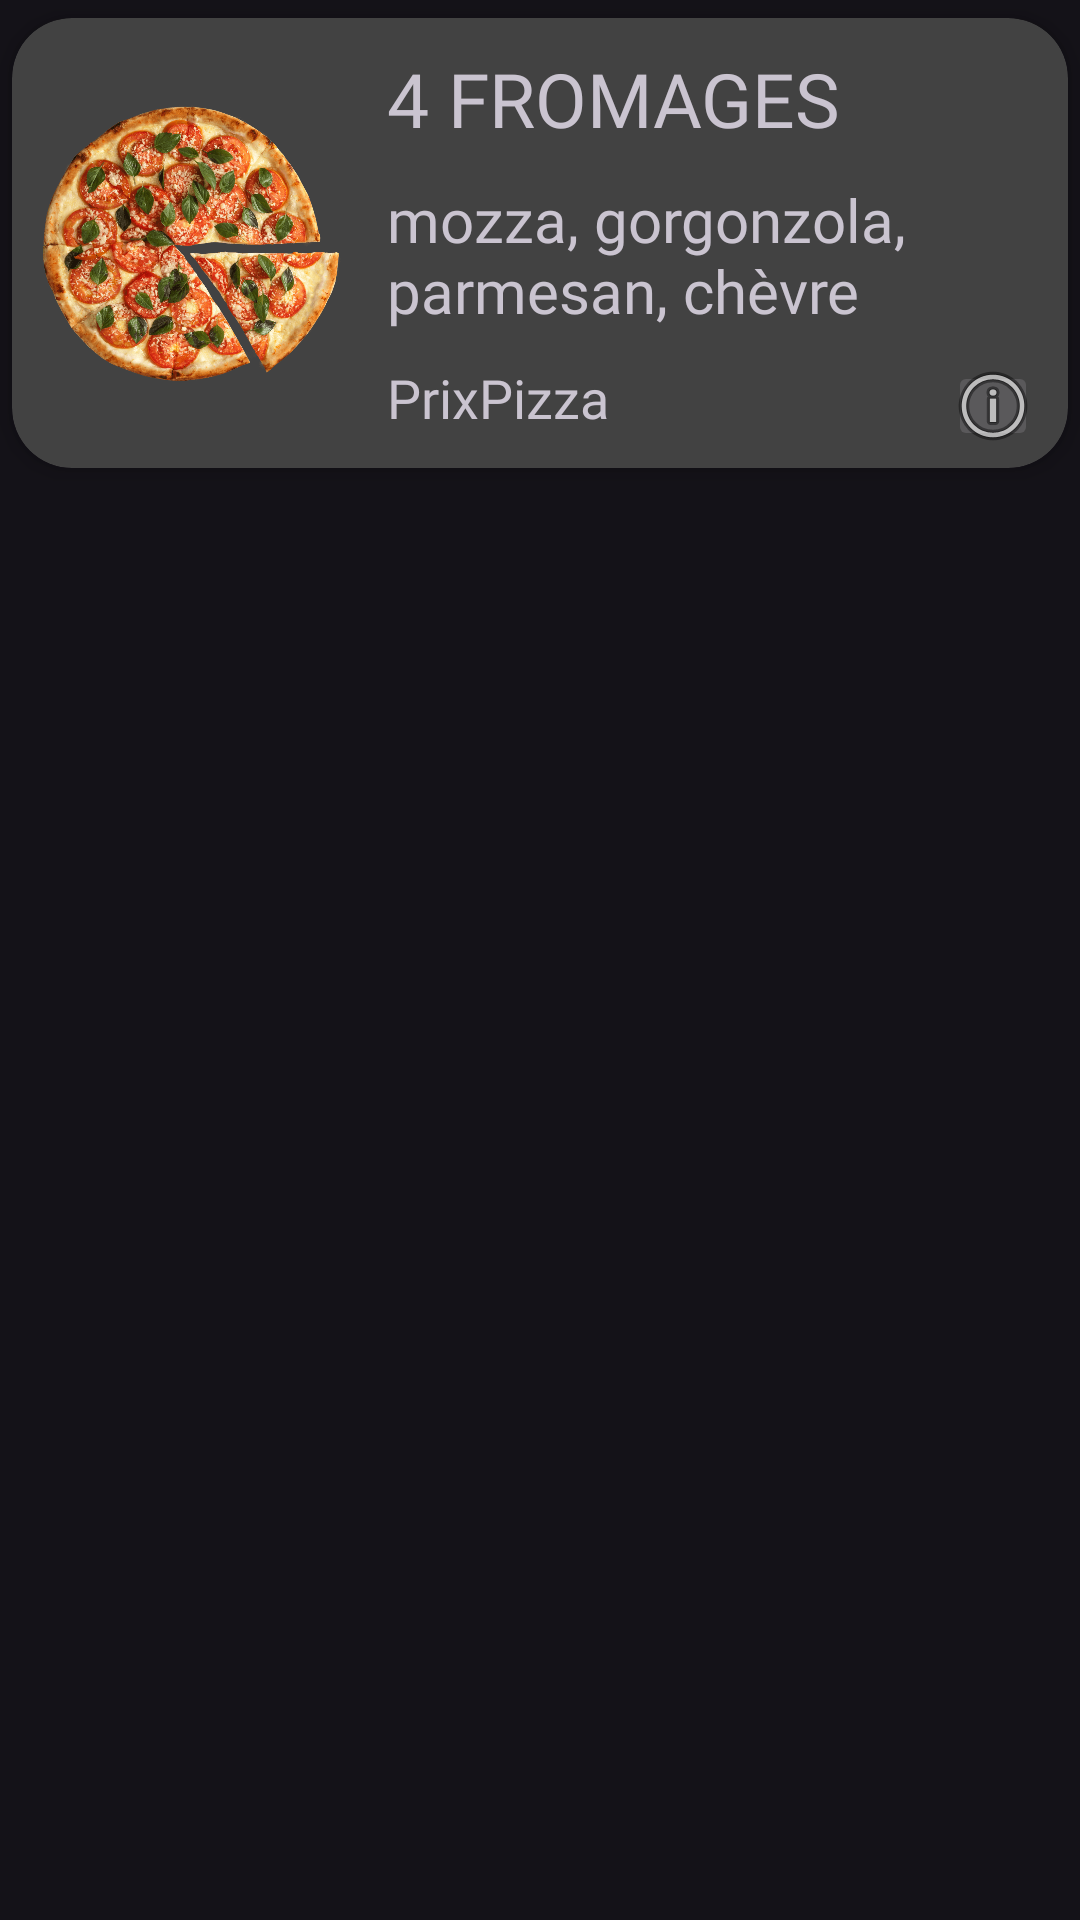

Screen size 1080w x 1920h. Icon name, then its center in pixels as (x=x, y=y):
info details: (x=993, y=406)
